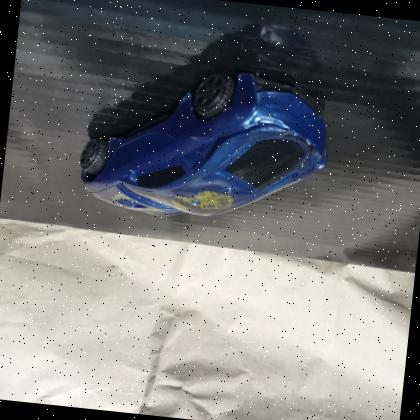Car: (79, 70, 328, 216)
